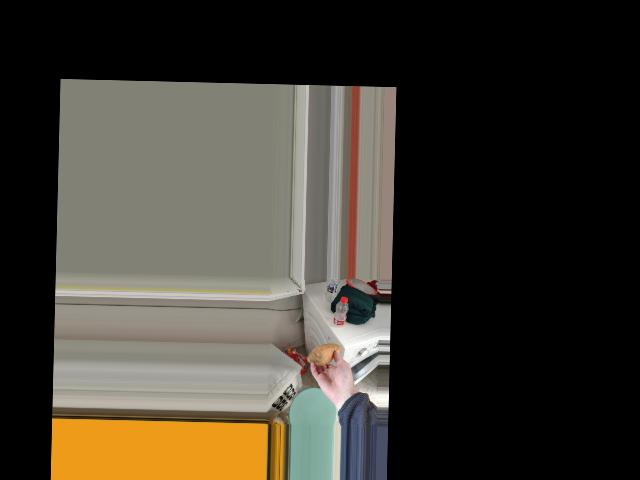sweet_potato: (310, 343, 339, 369)
